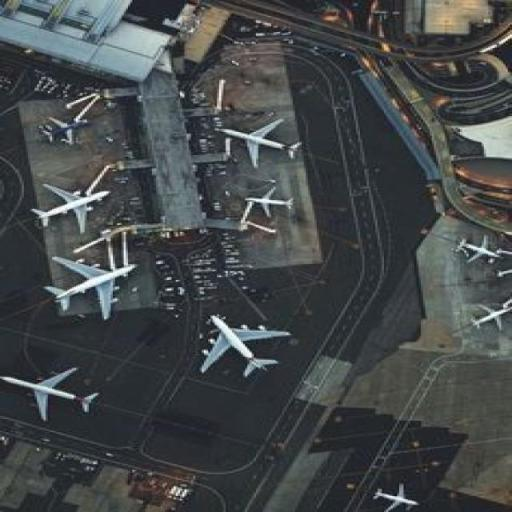uav: (191, 310, 297, 380)
